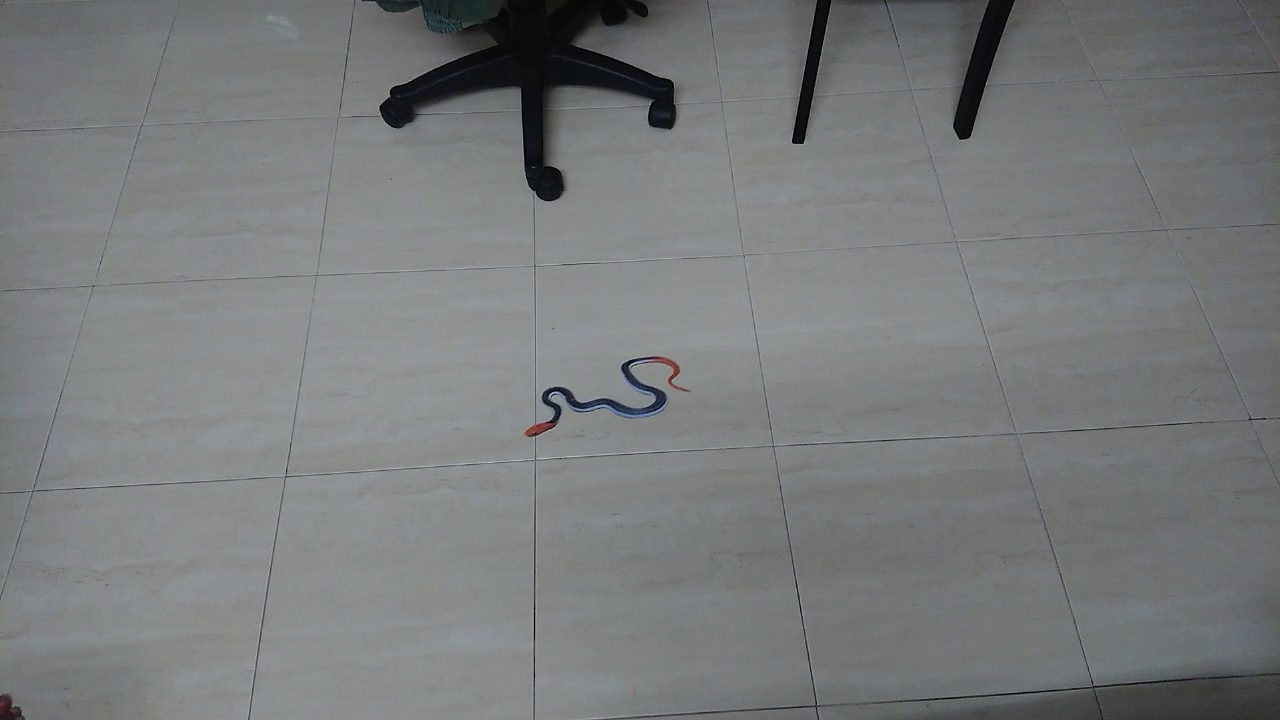snake: (508, 340, 703, 449)
